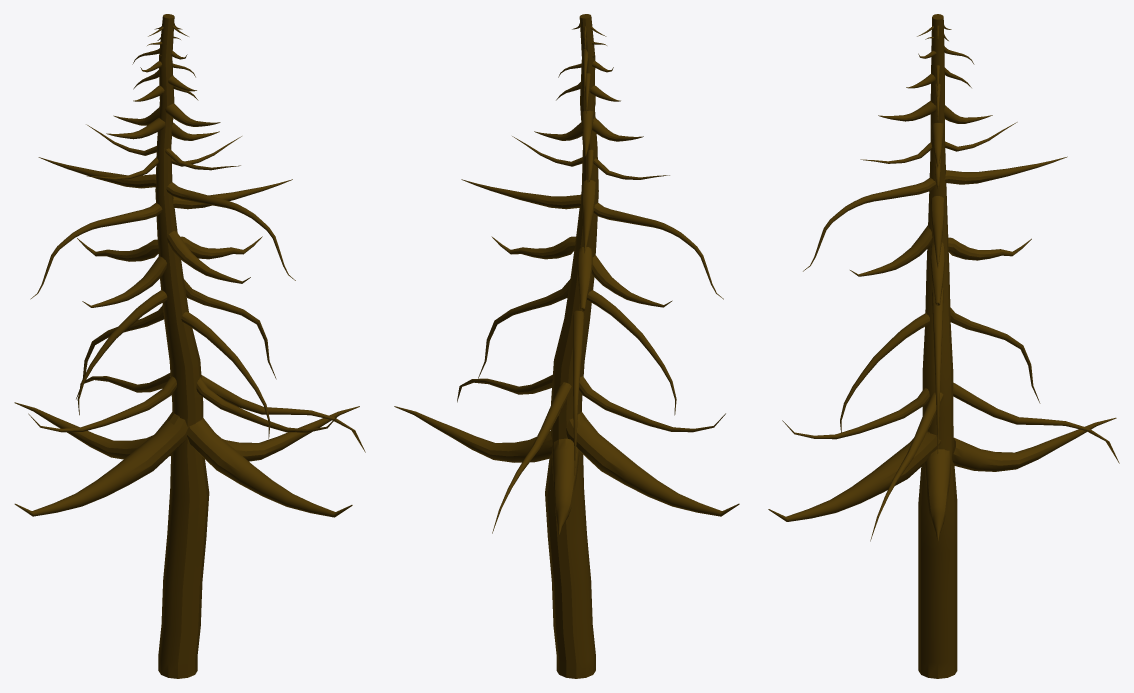
File: Arbol_Seco.fbx
3 renders of one model, left to right at view 1: azimuth 30°, elevation 25°; view 2: azimuth 150°, elevation 25°; view 3: azimuth 270°, elevation 25°, orthographic.
Parts seen in each view (by area): view 1: pCylinder1, pCylinder32, polySurface1, polySurface3, pCylinder33, pCylinder21, pCylinder20, pCylinder14, polySurface16, polySurface7, polySurface18, pCylinder18 (+9 smaller); view 2: pCylinder1, pCylinder32, pCylinder33, polySurface3, polySurface6, pCylinder20, pCylinder14, polySurface17, pCylinder18, pCylinder29, pCylinder19, pCylinder30 (+4 smaller); view 3: pCylinder1, polySurface1, polySurface3, pCylinder33, polySurface6, polySurface16, polySurface7, pCylinder21, polySurface18, polySurface4, pCylinder19, polySurface8 (+4 smaller).
Part boxes in pixels (x1,y1,x2,y2): pCylinder1: (155, 14, 209, 678); pCylinder32: (14, 411, 188, 516); polySurface1: (187, 418, 352, 517); polySurface3: (14, 402, 170, 459); pCylinder33: (223, 406, 359, 461); pCylinder21: (201, 375, 365, 452); pCylinder20: (28, 375, 176, 432); pCylinder14: (30, 202, 162, 299); polySurface16: (166, 182, 295, 280); polySurface7: (196, 377, 339, 432); polySurface18: (181, 311, 270, 438); pCylinder18: (77, 290, 167, 415); pCylinder1: (545, 14, 598, 678); pCylinder32: (566, 411, 739, 516); pCylinder33: (394, 406, 552, 462); polySurface3: (552, 438, 579, 534); polySurface6: (492, 382, 572, 533); pCylinder20: (579, 375, 725, 432); pCylinder14: (593, 203, 723, 299); polySurface17: (573, 310, 584, 475); pCylinder18: (587, 290, 676, 415); pCylinder29: (461, 179, 580, 209); pCylinder19: (478, 279, 570, 378); pCylinder30: (591, 255, 672, 307); pCylinder1: (918, 14, 957, 678); polySurface1: (768, 431, 941, 521); polySurface3: (952, 417, 1116, 471); pCylinder33: (924, 449, 951, 540); polySurface6: (953, 382, 1119, 463); polySurface16: (803, 178, 936, 271); polySurface7: (782, 388, 929, 439); pCylinder21: (870, 392, 943, 541); polySurface18: (840, 313, 929, 432); polySurface4: (944, 156, 1067, 184); pCylinder19: (932, 287, 943, 453); polySurface8: (850, 225, 932, 276).
Bounding box in the file's own units: 13.26 × 24.13 × 11.82.
